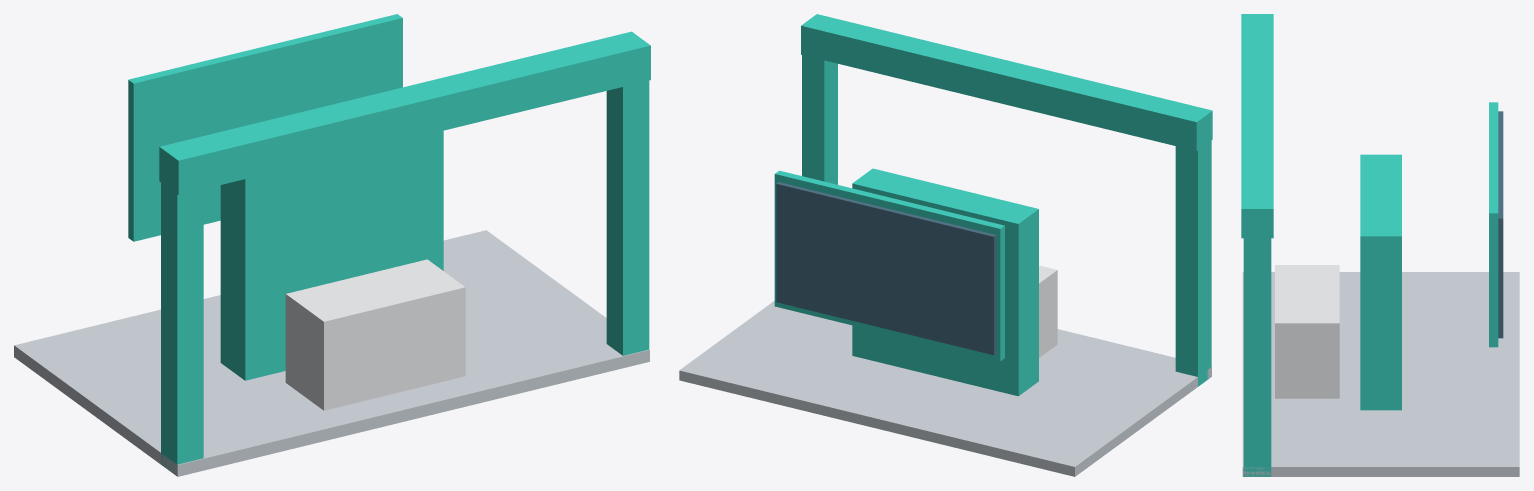
The picture shows the model from 3 angles, left to right: view 1: azimuth 30°, elevation 25°; view 2: azimuth 150°, elevation 25°; view 3: azimuth 270°, elevation 25°; orthographic projection. The views are drawn at different scales.
Visible parts, largest first — view 1: Exhibition Booth Concept; view 2: Exhibition Booth Concept; view 3: Exhibition Booth Concept.
Part boxes in pixels (left/top/right/bottom): Exhibition Booth Concept: left=14, top=14, right=650, bottom=476; Exhibition Booth Concept: left=679, top=14, right=1212, bottom=476; Exhibition Booth Concept: left=1241, top=14, right=1519, bottom=476.
Bounding box in the file's own units: 5 × 3.2 × 3.01.
